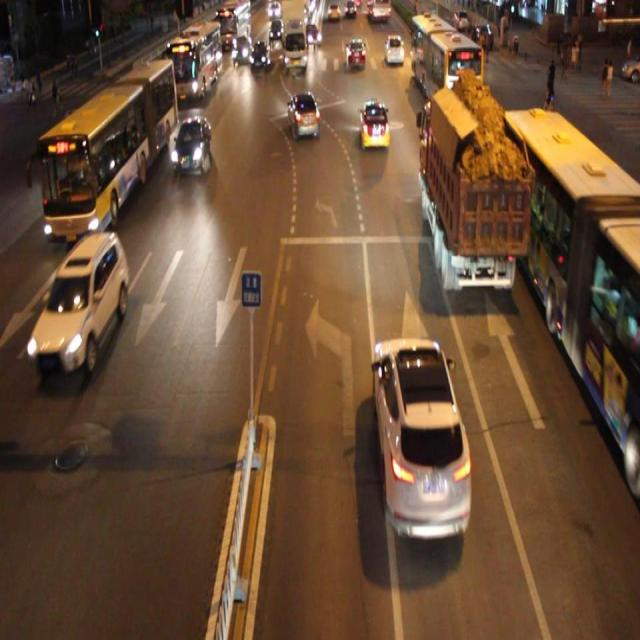bus: (422, 90, 518, 288)
car: (371, 334, 471, 536), (30, 230, 127, 376), (172, 114, 212, 172), (65, 104, 106, 158), (286, 90, 320, 140), (358, 98, 389, 148)
van: (501, 108, 640, 486), (39, 57, 174, 238)
